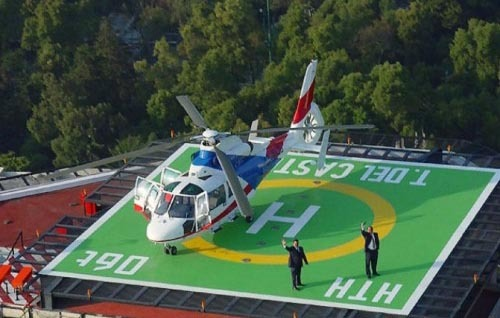H: (246, 202, 322, 239)
